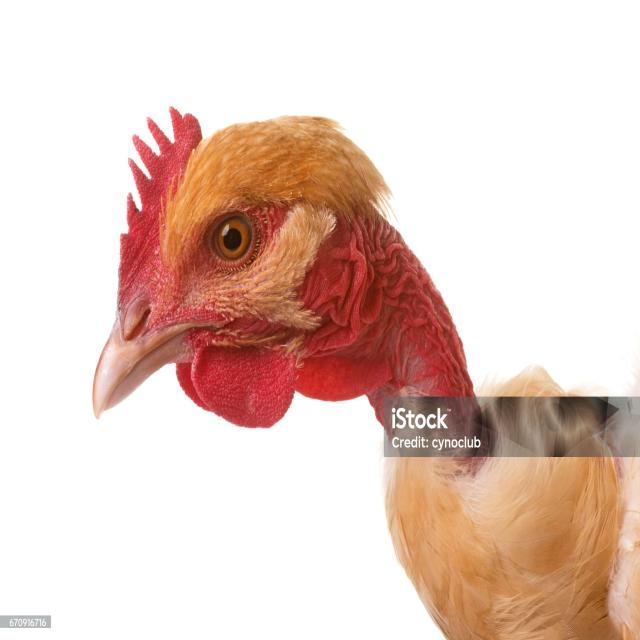Chicken: (86, 69, 628, 629)
